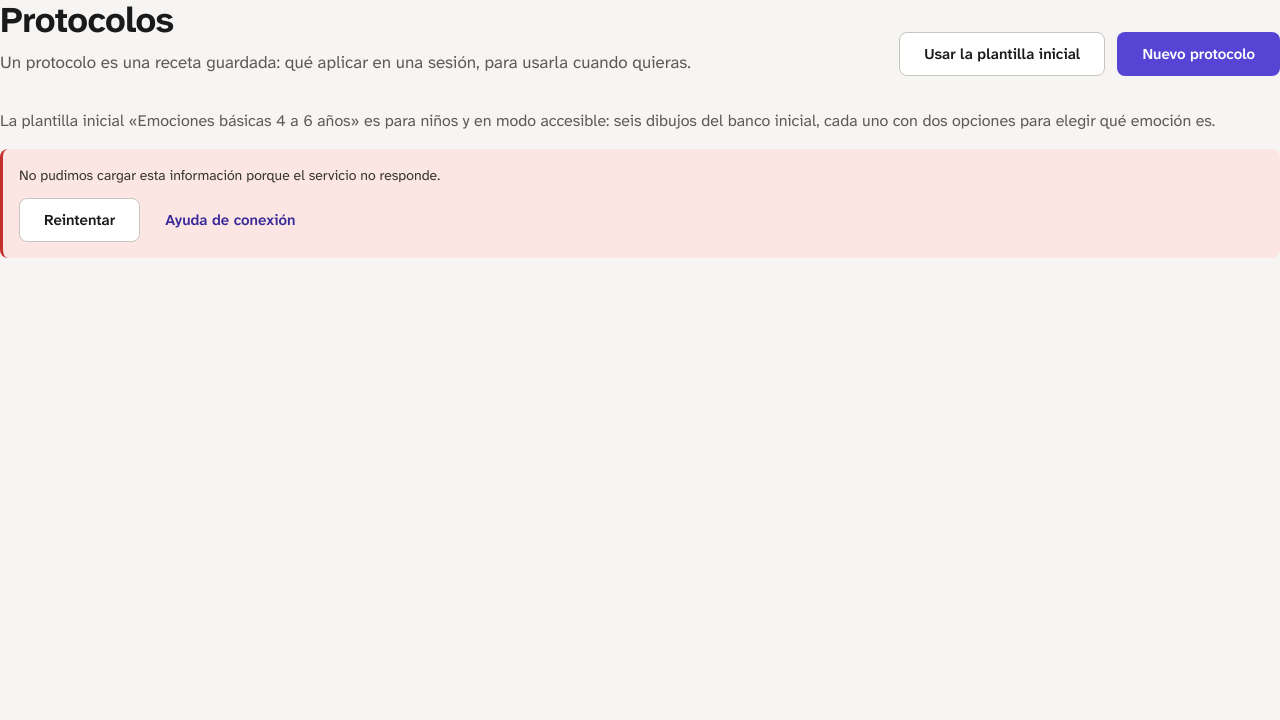
Scenario: el módulo «Expresión con la cámara» del editor › ofrece los dos juegos con cámara y los agrega respondidos con la cara
Click the button "Nuevo protocolo": (1199, 54) [1117, 32, 1279, 76]
(page scrolled)
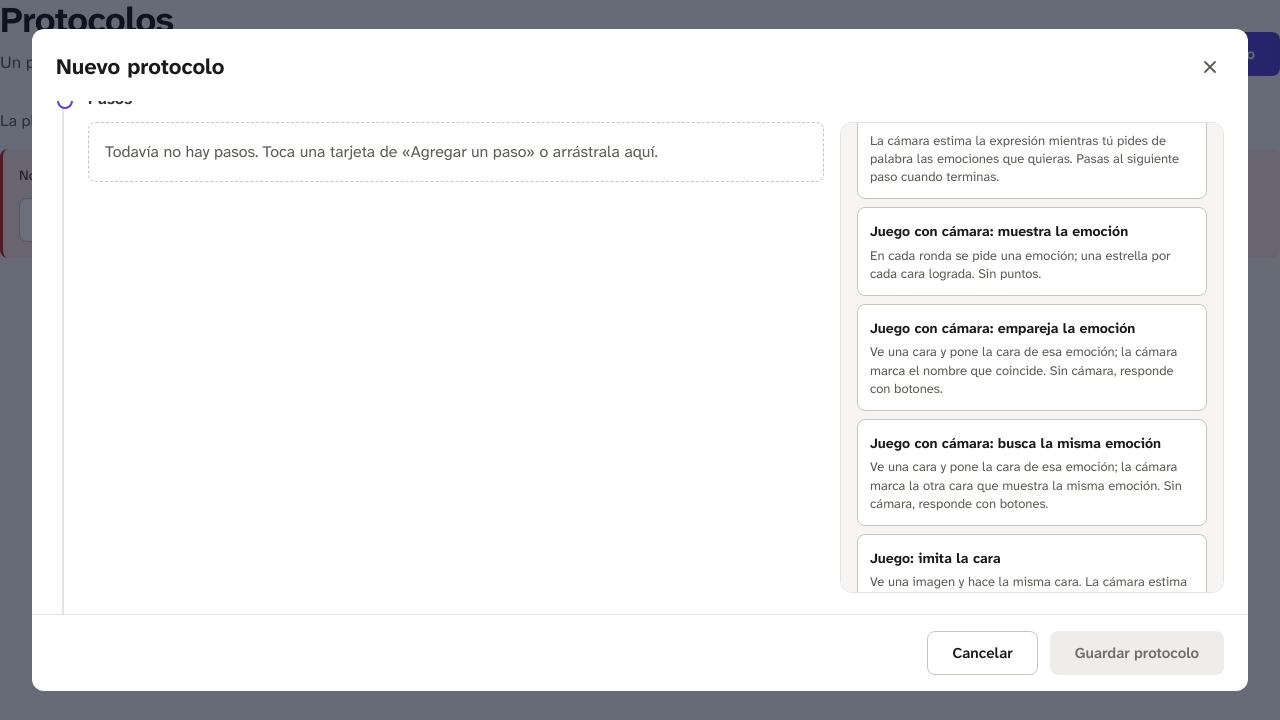
expect the button "Juego con cámara: busca la misma emoción" is shown: met, box [857, 419, 1207, 526]
Click the button "Juego con cámara: empareja la emoción": (1032, 358) [857, 304, 1207, 411]
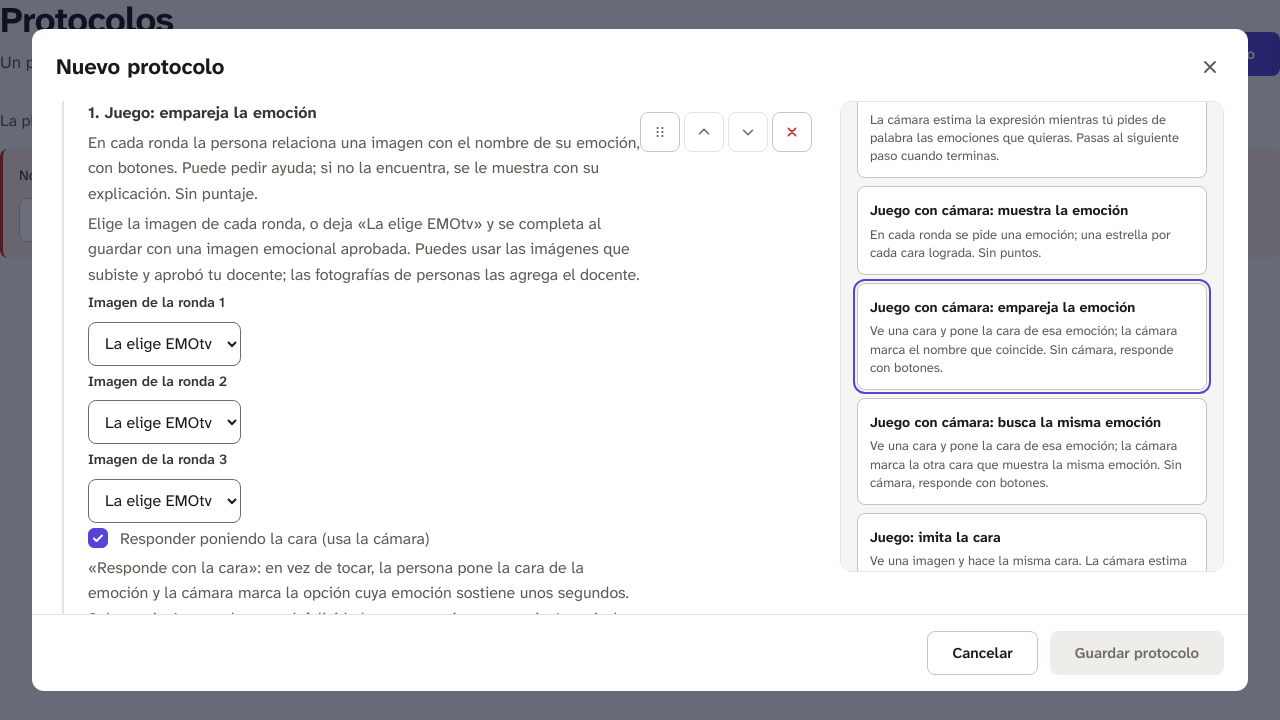
expect the checkbox labelled "Responder poniendo la cara (usa la cámara)" is checked: met, box [88, 528, 108, 548]
